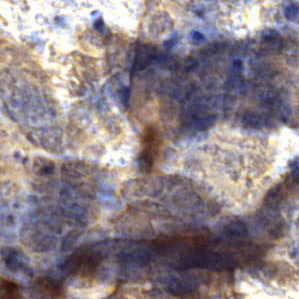Lymphocyte: (136, 125, 160, 176)
